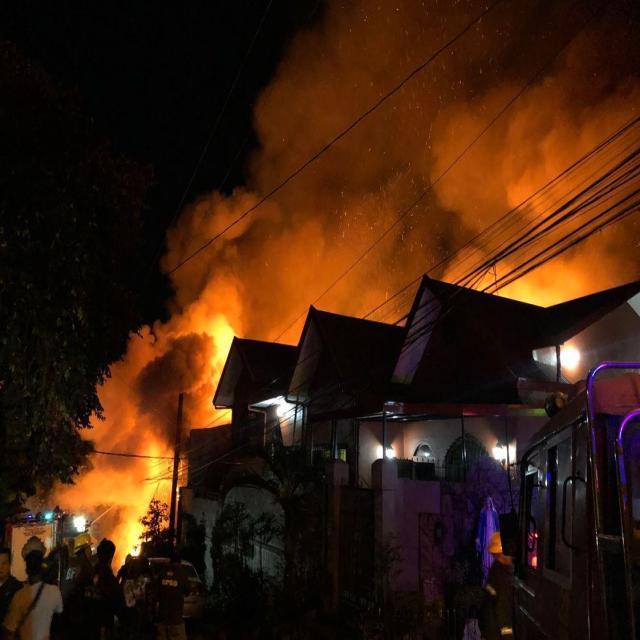Fire: (99, 449, 187, 552)
Smoke: (277, 0, 640, 276), (142, 217, 278, 351), (114, 360, 208, 438)
